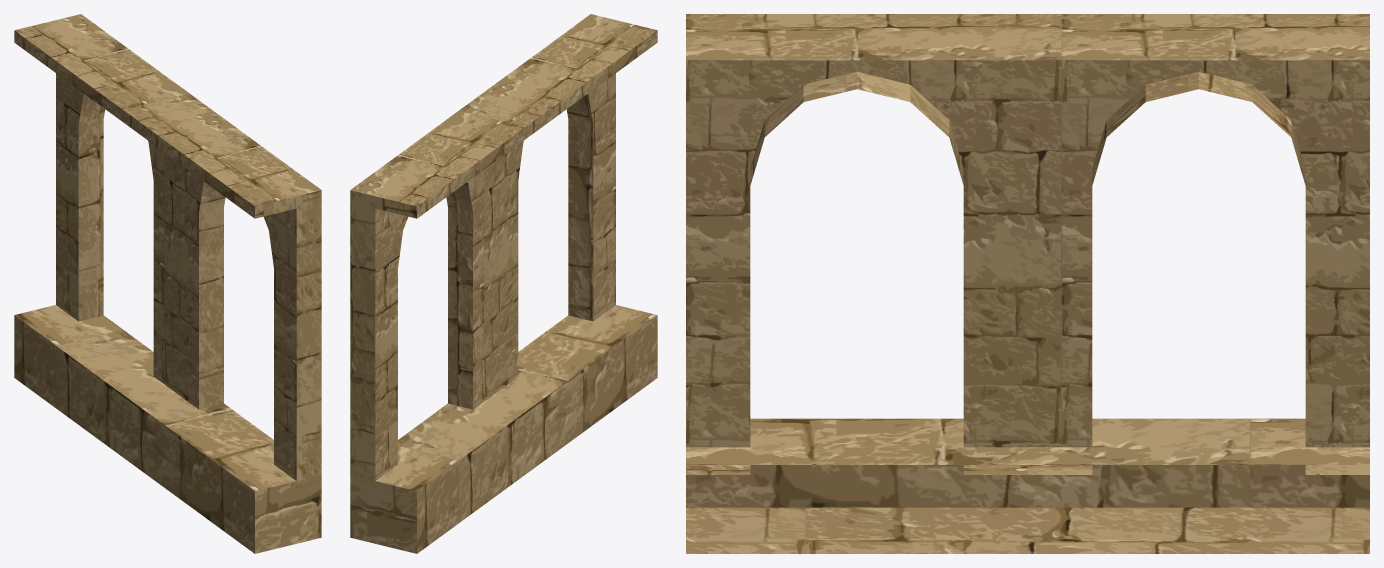
File: corridor_2_up.fbx
3 views of the same model, side by side, from view 1: azimuth 30°, elevation 25°; view 2: azimuth 150°, elevation 25°; view 3: azimuth 270°, elevation 25° (orthographic). The views are drawn at different scales.
Visible parts, largest first — view 1: polySurface1956; view 2: polySurface1956; view 3: polySurface1956.
Boxes of the visible parts, <box> form: polySurface1956: <box>14,14,321,553</box>; polySurface1956: <box>350,14,657,553</box>; polySurface1956: <box>686,14,1369,553</box>.
Bounding box in the file's own units: 37.92 × 188 × 237.
